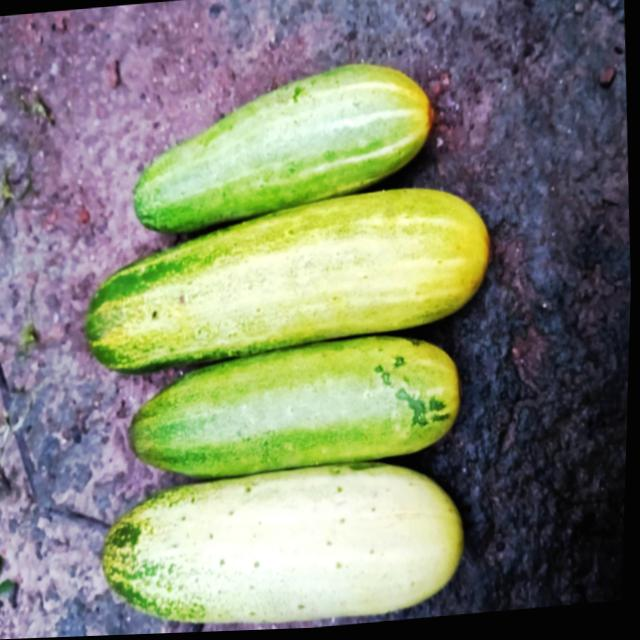Fresh-Cucumber: (80, 185, 500, 374), (100, 460, 473, 637), (114, 59, 445, 240), (123, 333, 470, 489)
